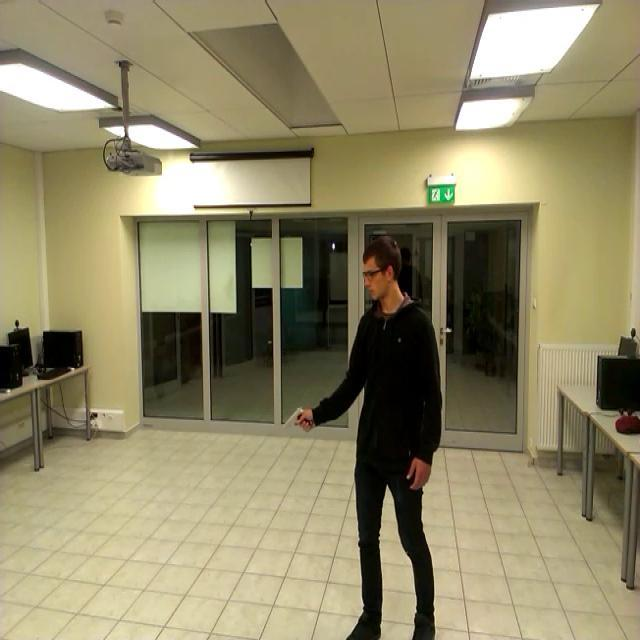Gun: (269, 392, 323, 441)
